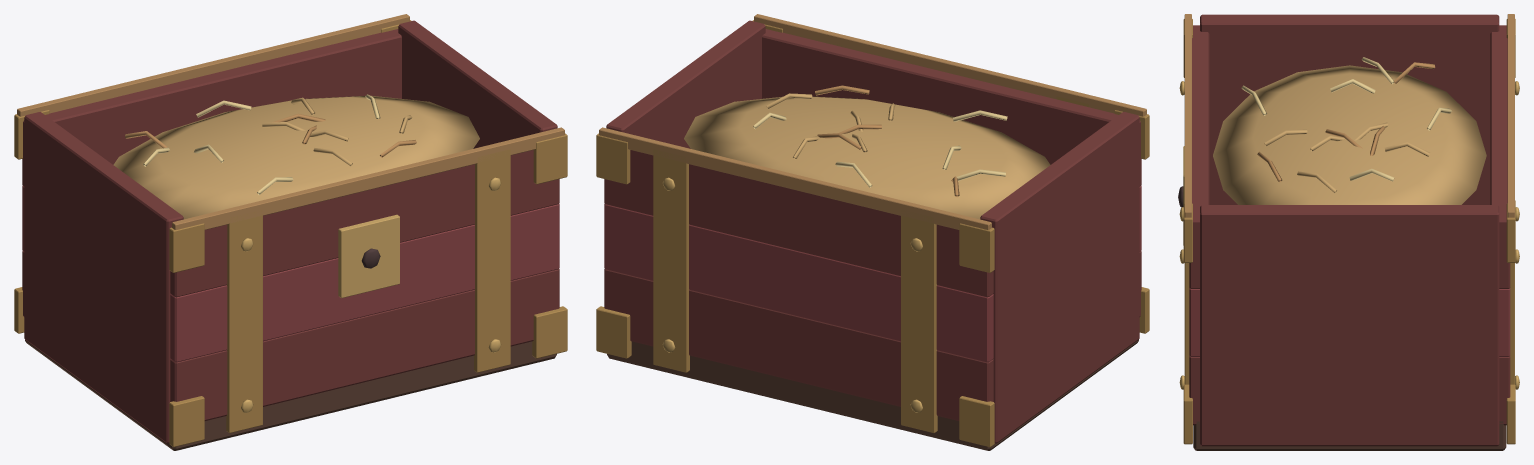
Rendered from chest.glb.
3 views of the same model, side by side, from view 1: azimuth 30°, elevation 25°; view 2: azimuth 150°, elevation 25°; view 3: azimuth 270°, elevation 25° (orthographic). The views are drawn at different scales.
Visible parts, largest first — view 1: chest; view 2: chest; view 3: chest.
Boxes of the visible parts, x1,y1,x2,y2 form: chest: [14, 14, 567, 450]; chest: [596, 14, 1149, 450]; chest: [1178, 14, 1519, 450].
Bounding box in the file's own units: 0.5 × 0.28 × 0.36.
